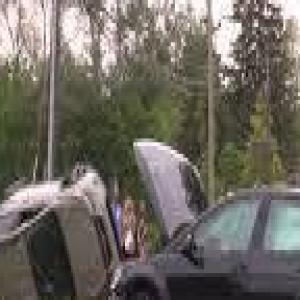fatal: (0, 150, 123, 300)
